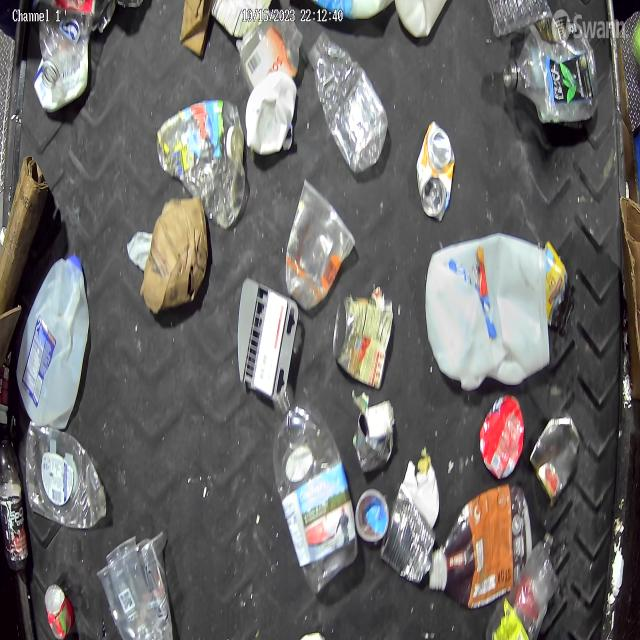can: (382, 475, 437, 582), (334, 294, 394, 386), (529, 408, 582, 506), (416, 121, 457, 220), (354, 401, 396, 475)
milk_jug: (427, 231, 550, 389), (20, 249, 88, 426)
plastic_bottle: (273, 385, 358, 593), (307, 30, 387, 172), (156, 100, 246, 226), (284, 178, 356, 310), (502, 31, 597, 127), (25, 425, 108, 530), (486, 532, 555, 640), (0, 426, 32, 570)
